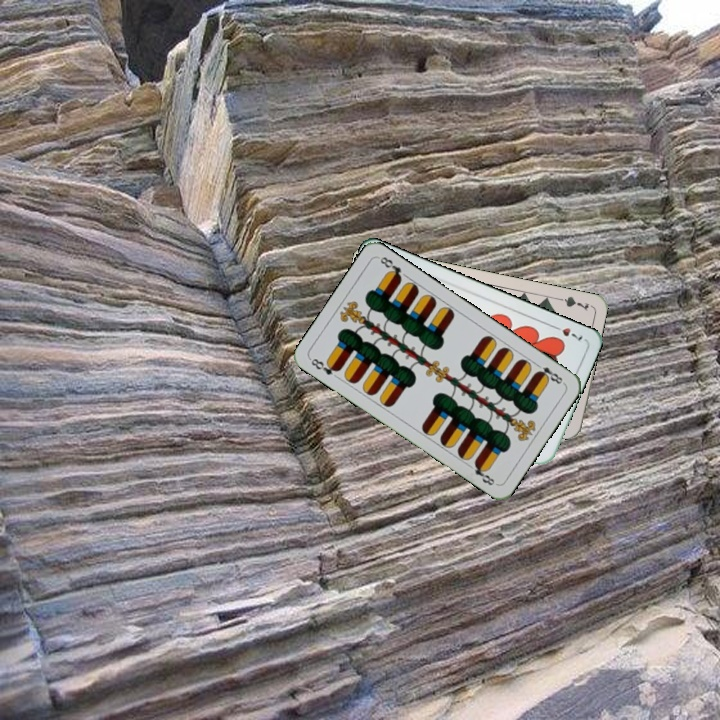E8: (531, 359, 567, 387), (306, 354, 342, 378)
G7: (552, 292, 591, 313)
H7: (548, 321, 586, 343)
